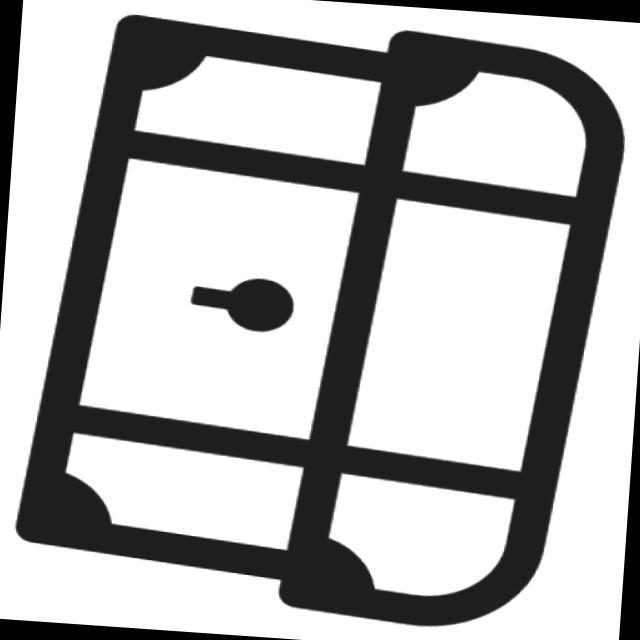treasure_box: (2, 1, 640, 640)
